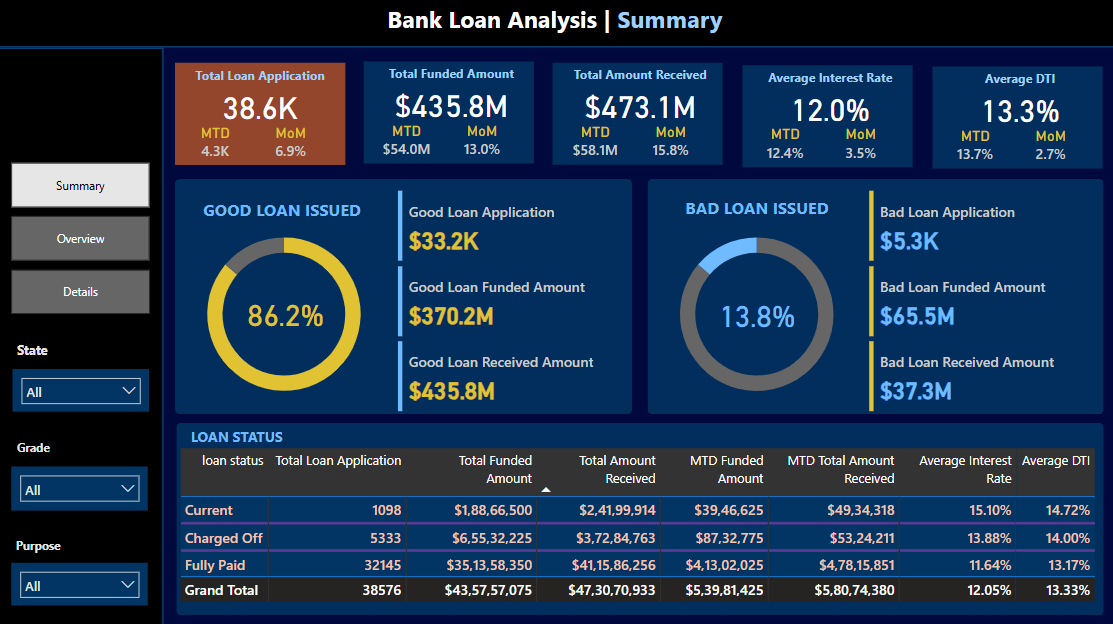

This screenshot's page, from the dashboard's own definition file:
{"tool":"powerbi","page":{"name":"Summary","canvas":[1280,720],"ordinal":0},"visuals":[{"type":"shape","box":[206.2,206.2,522.5,268.8],"z":0},{"type":"donutChart","fields":{"Category":["Bank_loan_data.Good vs Bad Loan"],"Y":["Bank_loan_data.Total_Loan_Application"]},"box":[206.3,245.3,249.6,229.4],"z":1000},{"type":"shape","box":[0,0,1280,55.5],"z":2000},{"type":"shape","box":[0,55,192.5,665],"z":3000},{"type":"shape","box":[206.3,72.6,195,117],"z":3000,"group":"g3"},{"type":"shape","box":[420.7,72.7,194.8,116.9],"z":3000,"group":"g2"},{"type":"shape","box":[637.8,74.1,194.8,116.9],"z":3000,"group":"g4"},{"type":"shape","box":[854.9,75.6,194.8,116.9],"z":3000,"group":"g5"},{"type":"shape","box":[1072,77,194.8,116.9],"z":3000,"group":"g6"},{"type":"textbox","box":[0,0,1280,55.5],"z":4000},{"type":"card","fields":{"Values":["Bank_loan_data.Total Funded Amount"]},"box":[423.3,99.5,194.8,41.8],"z":4000,"group":"g2"},{"type":"card","fields":{"Values":["Bank_loan_data.Total Amount Received"]},"box":[640.4,100.9,194.8,41.8],"z":4000,"group":"g4"},{"type":"card","fields":{"Values":["Bank_loan_data.Total_Loan_Application"]},"box":[206.3,101.4,194.8,41.8],"z":4000,"group":"g3"},{"type":"card","fields":{"Values":["Bank_loan_data.Average Interest Rate"]},"box":[857.5,102.4,194.8,41.8],"z":4000,"group":"g5"},{"type":"card","fields":{"Values":["Bank_loan_data.Average DTI"]},"box":[1074.6,103.8,194.8,41.8],"z":4000,"group":"g6"},{"type":"textbox","box":[423.3,70.7,194.8,46.2],"z":5000,"group":"g2"},{"type":"textbox","box":[640.4,72.1,194.8,46.2],"z":5000,"group":"g4"},{"type":"group","id":"g1","title":"Group 1","box":[206.3,72.6,195,117],"z":5000},{"type":"textbox","box":[206.3,72.6,194.8,46.2],"z":5000,"group":"g3"},{"type":"textbox","box":[857.5,73.6,194.8,46.2],"z":5000,"group":"g5"},{"type":"textbox","box":[1074.6,75,194.8,46.2],"z":5000,"group":"g6"},{"type":"group","id":"g2","title":"Group 2","box":[420.7,70.7,197.7,118.3],"z":6000},{"type":"card","title":"MTD","fields":{"Values":["Bank_loan_data.MTD Funded Amount"]},"box":[436.3,141.1,66.4,45.8],"z":6000,"group":"g2"},{"type":"card","title":"MTD","fields":{"Values":["Bank_loan_data.MTD Total Amount Received"]},"box":[653.4,142.5,66.4,45.8],"z":6000,"group":"g4"},{"type":"card","title":"MTD","fields":{"Values":["Bank_loan_data.MTD Loan Application"]},"box":[219.3,143,66.4,45.8],"z":6000,"group":"g3"},{"type":"card","title":"MTD","fields":{"Values":["Bank_loan_data.MTD Average Interest Rate"]},"box":[870.5,144,66.4,45.8],"z":6000,"group":"g5"},{"type":"card","title":"MTD","fields":{"Values":["Bank_loan_data.MTD Average DTI"]},"box":[1087.6,145.4,66.4,45.8],"z":6000,"group":"g6"},{"type":"card","title":"MoM","fields":{"Values":["Bank_loan_data.MoM Total Funded Amount"]},"box":[522,141.1,67.6,45.8],"z":7000,"group":"g2"},{"type":"card","title":"MoM","fields":{"Values":["Bank_loan_data.MoM Total Amount Received"]},"box":[739.1,142.5,67.6,45.8],"z":7000,"group":"g4"},{"type":"card","title":"MoM","fields":{"Values":["Bank_loan_data.MoM"]},"box":[305,143,67.6,45.8],"z":7000,"group":"g3"},{"type":"card","title":"MoM","fields":{"Values":["Bank_loan_data.MoM Average Interest Rate"]},"box":[956.2,144,67.6,45.8],"z":7000,"group":"g5"},{"type":"card","title":"MoM","fields":{"Values":["Bank_loan_data.MoM Average DTI"]},"box":[1173.3,145.4,67.6,45.8],"z":7000,"group":"g6"},{"type":"card","fields":{"Values":["Bank_loan_data.Good Loan %"]},"box":[266.9,331.8,129.8,56.3],"z":7000},{"type":"group","id":"g3","title":"Group 2","box":[206.3,72.6,195,117],"z":7002,"group":"g1"},{"type":"group","id":"g4","title":"Group 2","box":[637.8,72.1,197.7,118.3],"z":8000},{"type":"group","id":"g5","title":"Group 2","box":[854.9,73.6,197.7,118.3],"z":9000},{"type":"shape","box":[745,206.2,521.2,268.8],"z":10000},{"type":"group","id":"g6","title":"Group 2","box":[1072,75,197.7,118.3],"z":11000},{"type":"textbox","box":[219.3,222.2,216.4,47.6],"z":12000},{"type":"cardVisual","fields":{"Data":["Bank_loan_data.Good Loan Application","Bank_loan_data.Good Loan Funded Amount","Bank_loan_data.Good Loan Received Amount"]},"box":[455.9,215,272.7,262.6],"z":13000},{"type":"donutChart","fields":{"Category":["Bank_loan_data.Good vs Bad Loan"],"Y":["Bank_loan_data.Total_Loan_Application"]},"box":[745.6,245.6,250,229.4],"z":14000},{"type":"textbox","box":[763.2,222.1,216.2,47.1],"z":15000},{"type":"card","fields":{"Values":["Bank_loan_data.Bad Loan %"]},"box":[805.9,330.9,130.9,57.4],"z":16000},{"type":"cardVisual","fields":{"Data":["Bank_loan_data.Bad Loan Application","Bank_loan_data.Bad Loan Funded Amount","Bank_loan_data.Bad Loan Received Amount"]},"box":[994.1,214.7,272.1,263.2],"z":17000},{"type":"shape","box":[206.7,484.2,1060,220],"z":18000},{"type":"tableEx","fields":{"Values":["Bank_loan_data.loan_status","Bank_loan_data.Total_Loan_Application","Bank_loan_data.Total Funded Amount","Bank_loan_data.Total Amount Received","Bank_loan_data.MTD Funded Amount","Bank_loan_data.MTD Total Amount Received","Bank_loan_data.Average Interest Rate","Bank_loan_data.Average DTI"]},"box":[206.2,508.8,1060,195],"z":19000},{"type":"textbox","box":[218.8,483.8,153.8,42.5],"z":20000},{"type":"slicer","fields":{"Values":["Bank_loan_data.address_state"]},"box":[19.9,422.2,156.2,48.8],"z":21000},{"type":"textbox","box":[19.9,386,55,36.2],"z":22000},{"type":"slicer","fields":{"Values":["Bank_loan_data.grade"]},"box":[18.7,534.7,156.2,50],"z":23000},{"type":"textbox","box":[19.9,498.5,70,36.2],"z":24000},{"type":"slicer","fields":{"Values":["Bank_loan_data.purpose"]},"box":[18.7,644.7,156.2,48.8],"z":25000},{"type":"textbox","box":[18.7,609.7,71.2,35],"z":26000},{"type":"pageNavigator","box":[18.8,187.6,158.7,173.1],"z":26001}]}

Visuals, with their boxes in screenshot pixels (x1, y1, x2, y2), scaled from the page's 1280x720 canvas onto the 1113x624 screenshot:
shape: 179, 179, 634, 412
donutChart - Bank_loan_data.Good vs Bad Loan x Bank_loan_data.Total_Loan_Application: 179, 213, 396, 411
shape: 0, 0, 1112, 48
shape: 0, 48, 167, 623
shape: 179, 63, 349, 164
shape: 366, 63, 535, 164
shape: 555, 64, 724, 166
shape: 743, 66, 913, 167
shape: 932, 67, 1102, 168
textbox: 0, 0, 1112, 48
card - Bank_loan_data.Total Funded Amount: 368, 86, 537, 122
card - Bank_loan_data.Total Amount Received: 557, 87, 726, 124
card - Bank_loan_data.Total_Loan_Application: 179, 88, 349, 124
card - Bank_loan_data.Average Interest Rate: 746, 89, 915, 125
card - Bank_loan_data.Average DTI: 934, 90, 1104, 126
textbox: 368, 61, 537, 101
textbox: 557, 62, 726, 103
"Group 1" group: 179, 63, 349, 164
textbox: 179, 63, 349, 103
textbox: 746, 64, 915, 104
textbox: 934, 65, 1104, 105
"Group 2" group: 366, 61, 538, 164
"MTD" card: 379, 122, 437, 162
"MTD" card: 568, 124, 626, 163
"MTD" card: 191, 124, 248, 164
"MTD" card: 757, 125, 815, 164
"MTD" card: 946, 126, 1003, 166
"MoM" card: 454, 122, 513, 162
"MoM" card: 643, 124, 701, 163
"MoM" card: 265, 124, 324, 164
"MoM" card: 831, 125, 890, 164
"MoM" card: 1020, 126, 1079, 166
card - Bank_loan_data.Good Loan %: 232, 288, 345, 336
"Group 2" group: 179, 63, 349, 164
"Group 2" group: 555, 62, 726, 165
"Group 2" group: 743, 64, 915, 166
shape: 648, 179, 1101, 412
"Group 2" group: 932, 65, 1104, 168
textbox: 191, 193, 379, 234
cardVisual - Bank_loan_data.Good Loan Application x Bank_loan_data.Good Loan Funded Amount: 396, 186, 634, 414
donutChart - Bank_loan_data.Good vs Bad Loan x Bank_loan_data.Total_Loan_Application: 648, 213, 866, 412
textbox: 664, 192, 852, 233
card - Bank_loan_data.Bad Loan %: 701, 287, 815, 337
cardVisual - Bank_loan_data.Bad Loan Application x Bank_loan_data.Bad Loan Funded Amount: 864, 186, 1101, 414
shape: 180, 420, 1101, 610
tableEx - Bank_loan_data.loan_status x Bank_loan_data.Total_Loan_Application: 179, 441, 1101, 610
textbox: 190, 419, 324, 456
slicer - Bank_loan_data.address_state: 17, 366, 153, 408
textbox: 17, 335, 65, 366
slicer - Bank_loan_data.grade: 16, 463, 152, 507
textbox: 17, 432, 78, 463
slicer - Bank_loan_data.purpose: 16, 559, 152, 601
textbox: 16, 528, 78, 559
pageNavigator: 16, 163, 154, 313
